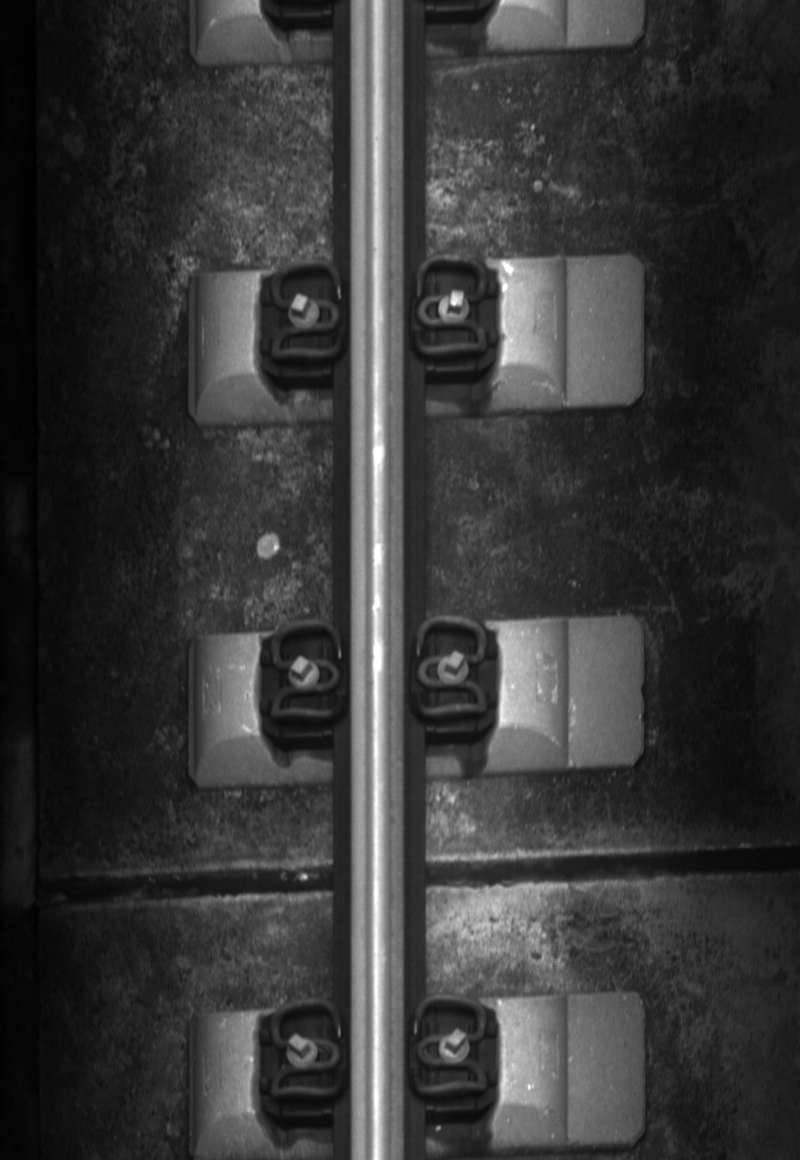l_faster: (264, 993, 348, 1110), (262, 615, 346, 731), (262, 254, 347, 367)
r_faster: (403, 988, 495, 1109), (407, 608, 493, 726), (407, 247, 492, 364)
